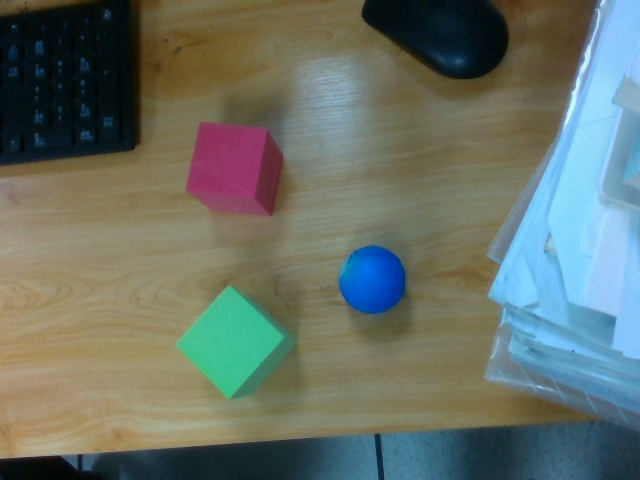blueball: (338, 244, 407, 315)
green: (172, 284, 296, 402)
red: (186, 120, 283, 219)
